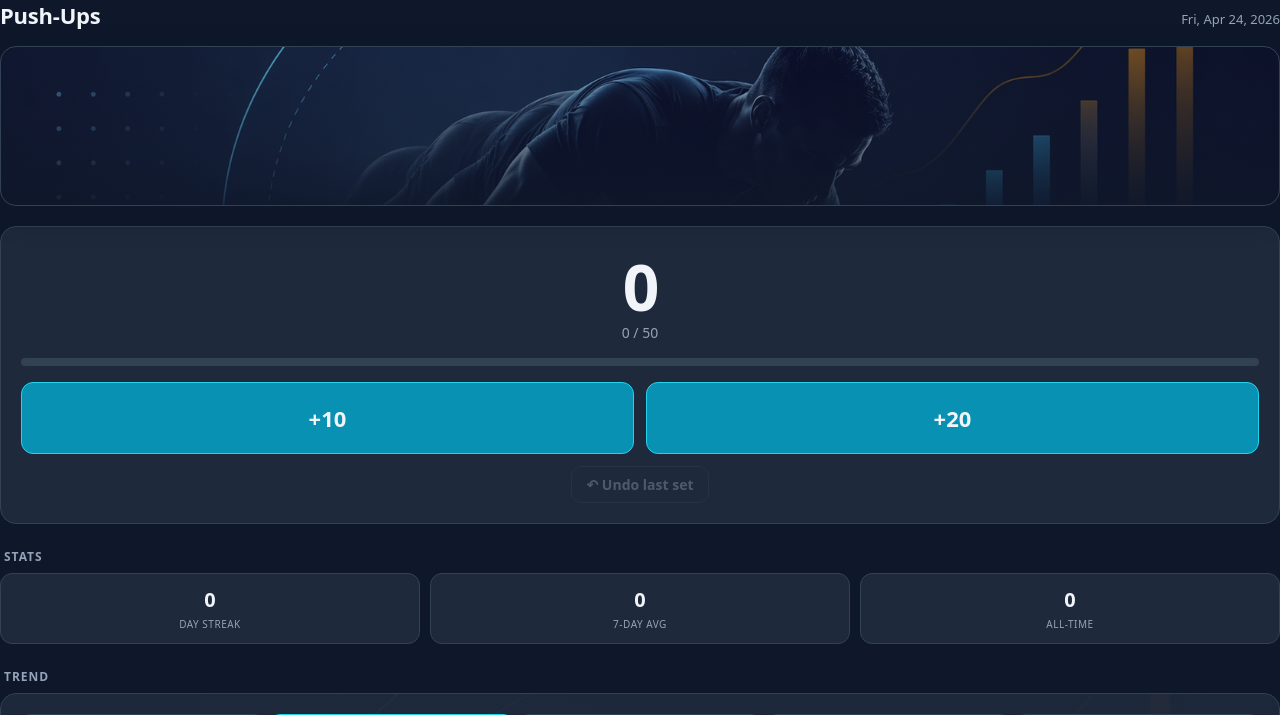
Test: PushUps screen › tapping a set chip removes that specific set
Click the button "+10": (328, 418) [21,382,634,454]
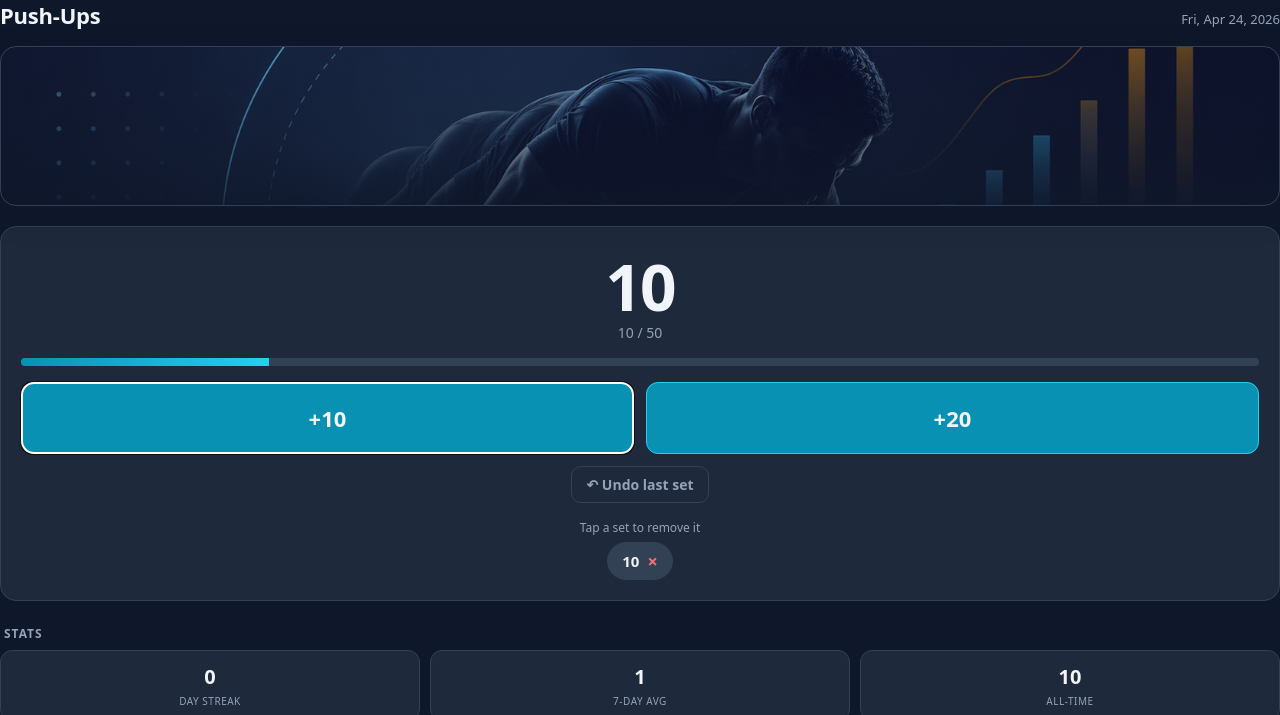
Click the button "+20": (952, 418) [646,382,1259,454]
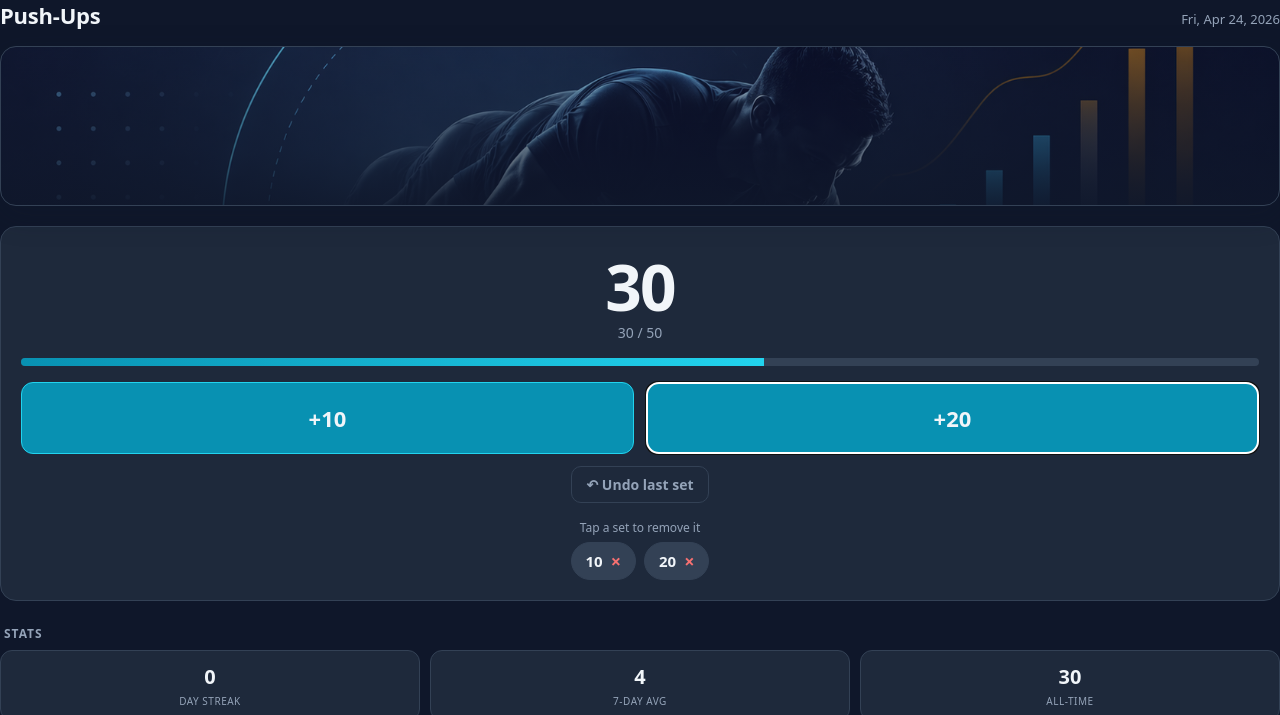
Find the chip for the 20 set and click it to remove
Click the button named "remove set of 20": (677, 561) [644,542,710,580]
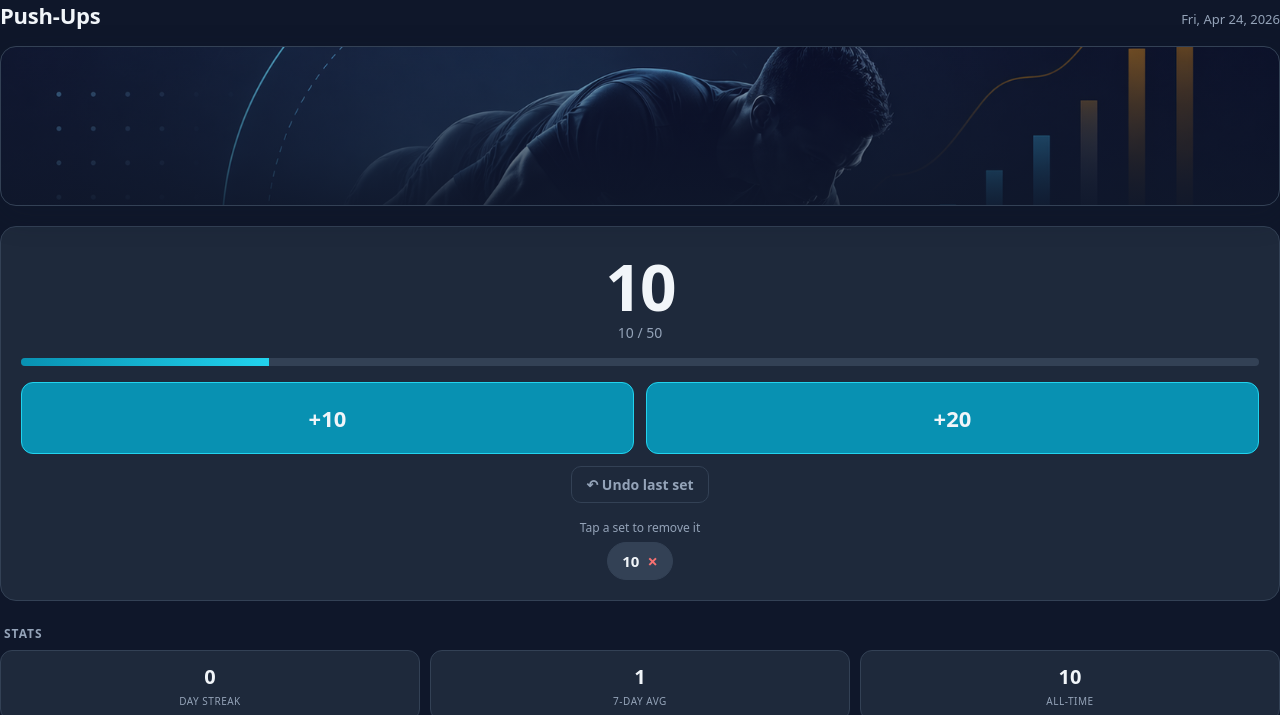
Check: the text "10 / 50" is shown, box [618,323,662,342]
